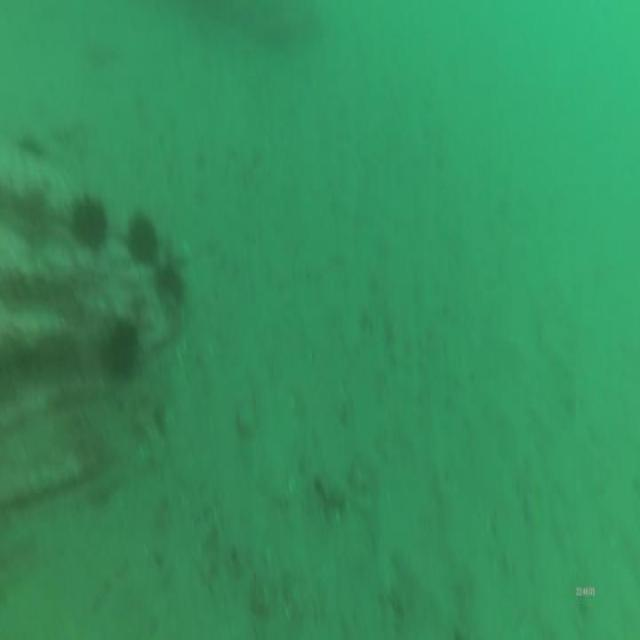echinus: (100, 311, 142, 381), (69, 186, 111, 256), (125, 207, 159, 272), (153, 259, 188, 316), (13, 128, 44, 163)
